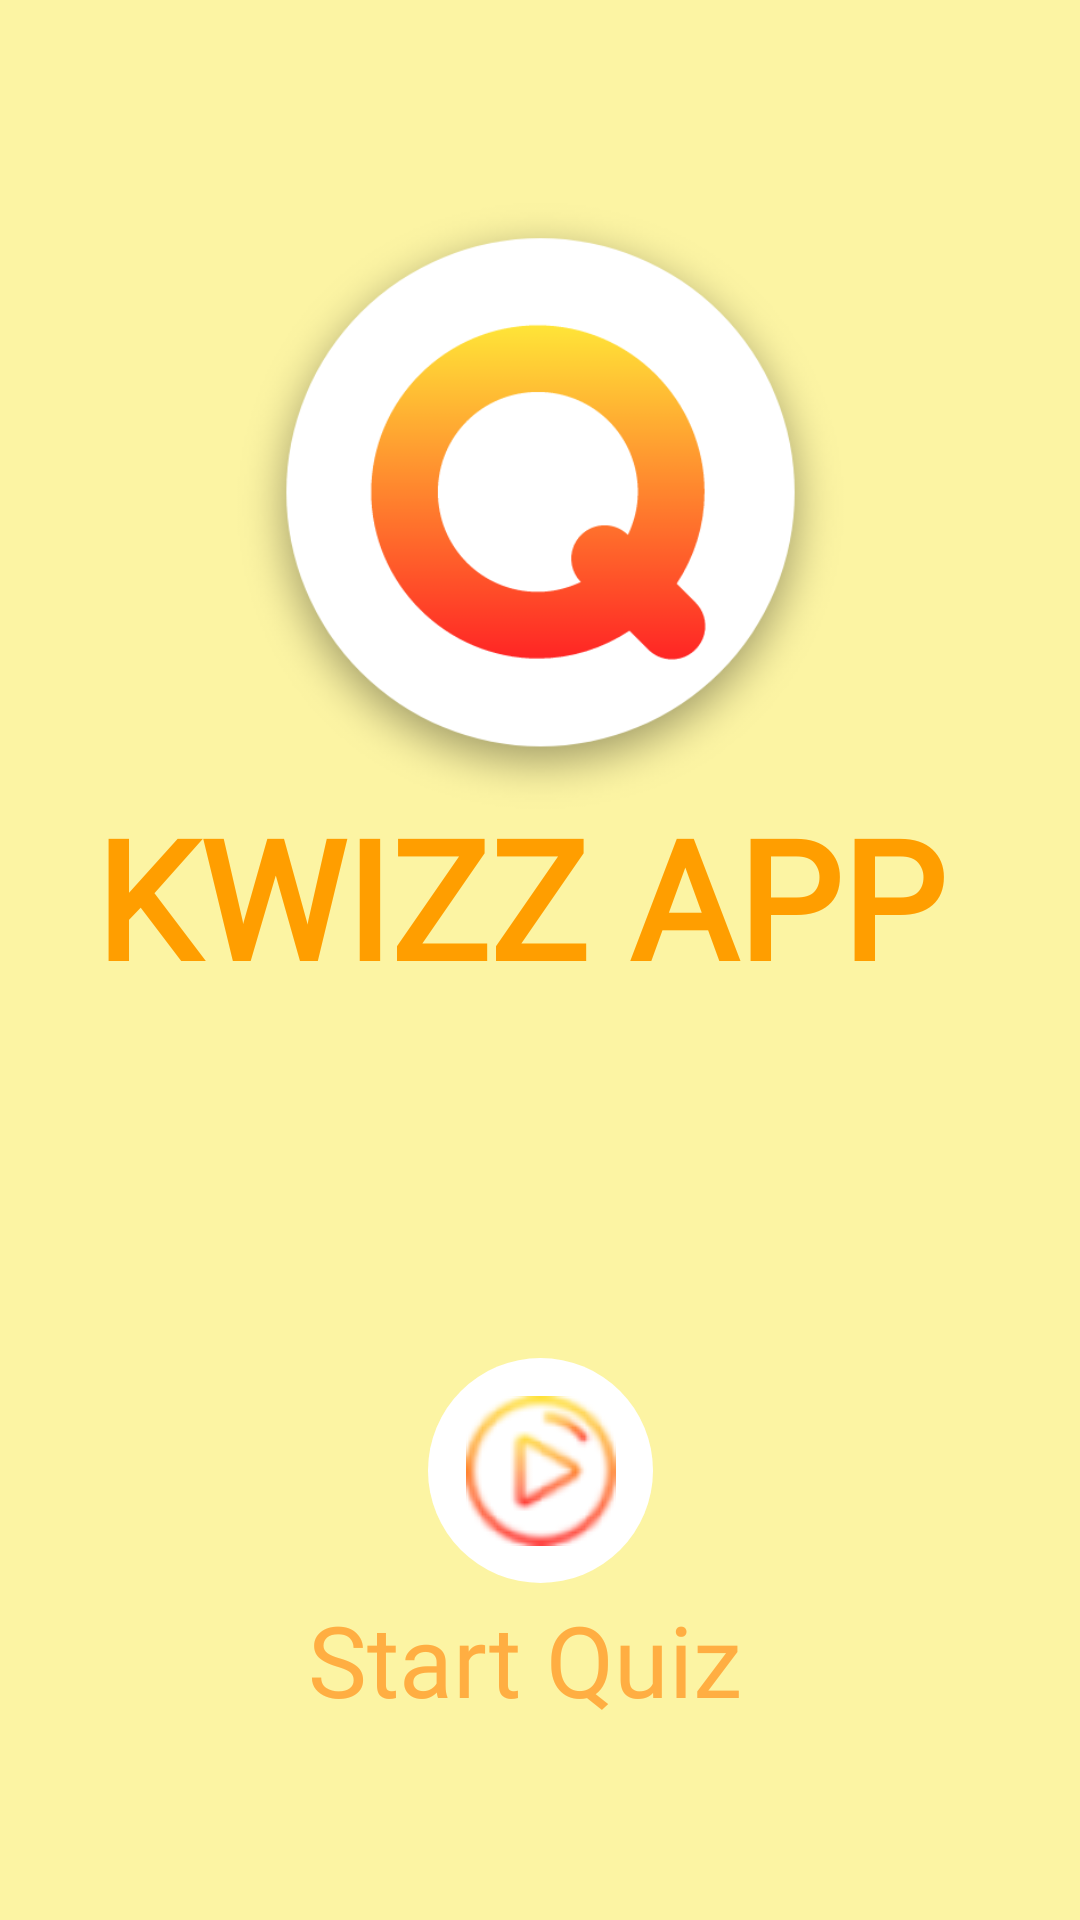

Where to tap for icons on this 1080px x 1920px app screen, as point (x, y):
play: point (540, 1470)
